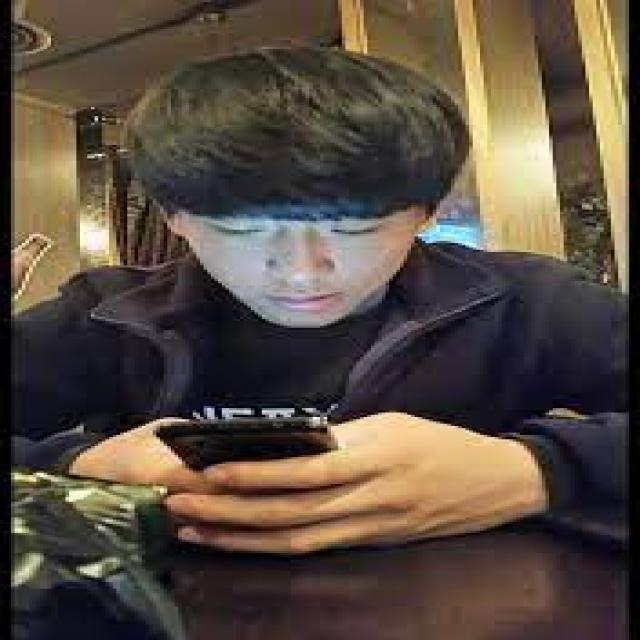Phone: (150, 416, 342, 470)
